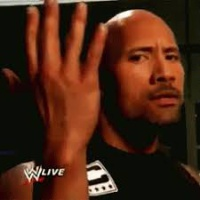ring: (63, 3, 87, 75)
